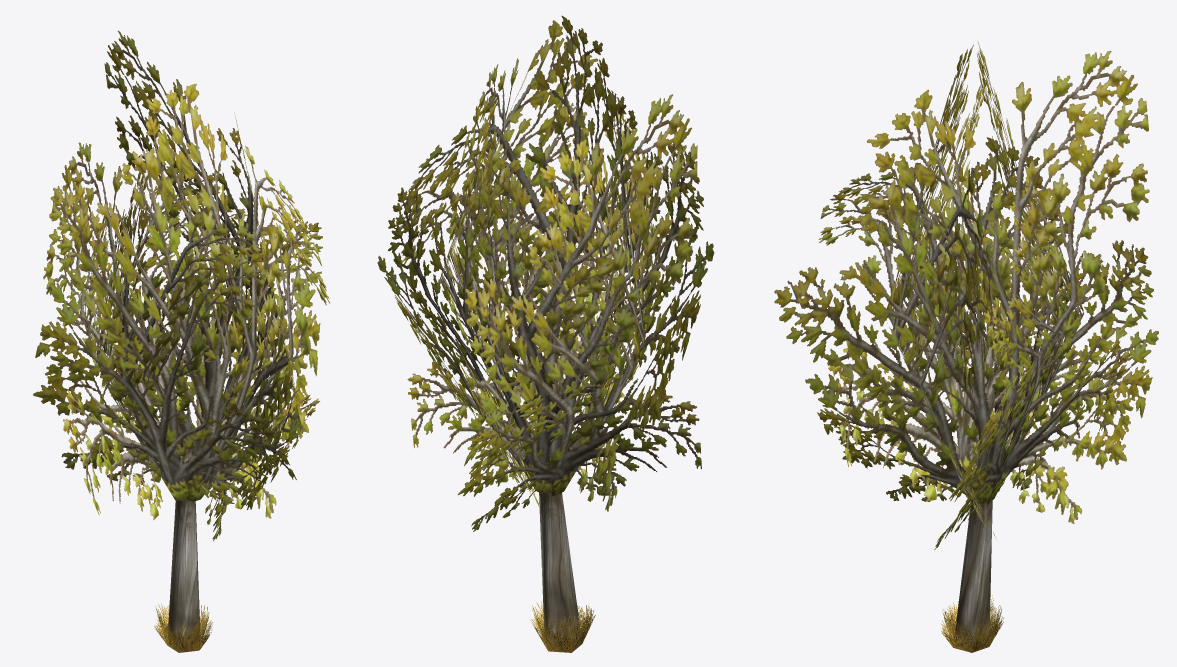
Rendered from westfalltree04.obj.
3 views of the same model, side by side, from view 1: azimuth 30°, elevation 25°; view 2: azimuth 150°, elevation 25°; view 3: azimuth 270°, elevation 25° (orthographic). The views are drawn at different scales.
Parts seen in each view (by area): view 1: Geoset0, Geoset1, Geoset2; view 2: Geoset0, Geoset1, Geoset2; view 3: Geoset0, Geoset1, Geoset2.
Boxes of the visible parts, x1=… form: Geoset0: x1=33, y1=30, x2=330, y2=541; Geoset1: x1=167, y1=499, x2=200, y2=652; Geoset2: x1=154, y1=603, x2=212, y2=652; Geoset0: x1=377, y1=15, x2=714, y2=531; Geoset1: x1=539, y1=492, x2=581, y2=652; Geoset2: x1=531, y1=601, x2=595, y2=652; Geoset0: x1=774, y1=41, x2=1158, y2=550; Geoset1: x1=953, y1=500, x2=992, y2=652; Geoset2: x1=941, y1=595, x2=1003, y2=652.
Bounding box in the file's own units: 11.47 × 21.41 × 13.46.
3 materials, 3 textured.
